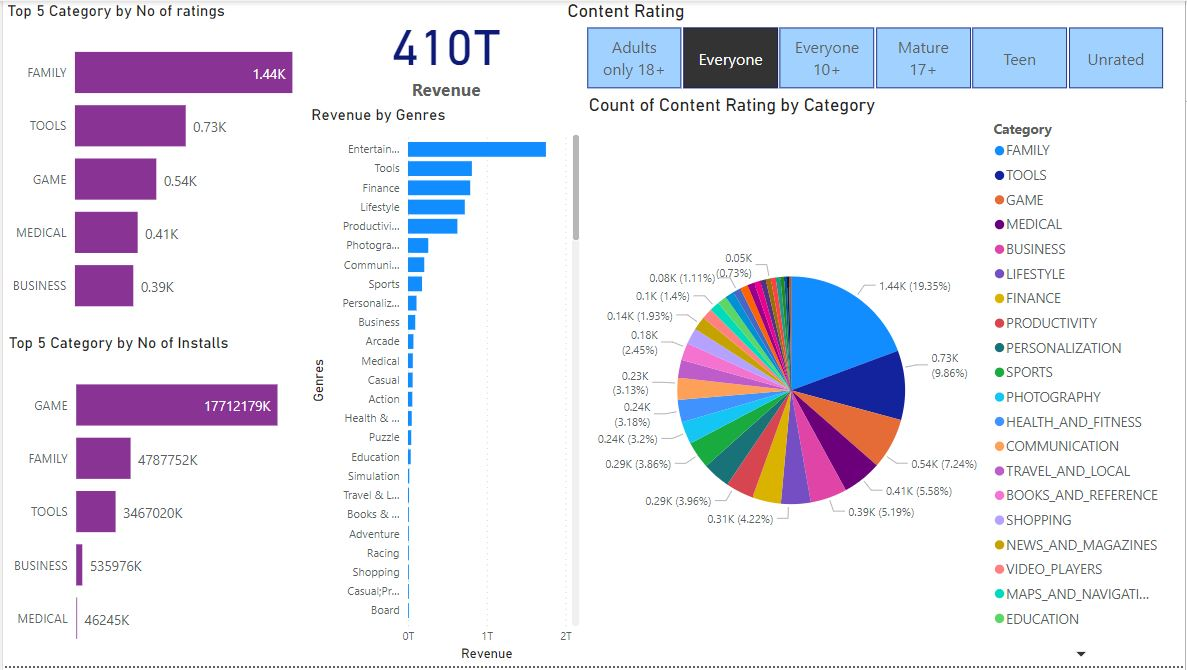

The dashboard page shown, as its layout file describes it:
{"tool":"powerbi","page":{"name":"Page 1","canvas":[1280,720],"ordinal":0},"visuals":[{"type":"actionButton","box":[0,0,100,40],"z":0},{"type":"barChart","title":"Top 5 Category by No of ratings","fields":{"Category":["cleaned-google-playstore.Category"],"Y":["CountNonNull(cleaned-google-playstore.Content Rating)"]},"box":[0,0,328.9,360],"z":3000},{"type":"card","fields":{"Values":["BaseMeasures.Revenue"]},"box":[330.2,0,299.1,112.3],"z":4001},{"type":"slicer","title":"Content Rating","fields":{"Values":["cleaned-google-playstore.Content Rating"]},"box":[606.3,0,674,101.5],"z":4002},{"type":"pieChart","fields":{"Y":["CountNonNull(cleaned-google-playstore.Content Rating)"],"Category":["cleaned-google-playstore.Category"]},"box":[629.3,101.5,636.1,618.5],"z":4003},{"type":"barChart","title":"Top 5 Category by No of Installs","fields":{"Category":["cleaned-google-playstore.Category"],"Y":["Sum(cleaned-google-playstore.Installs)"]},"box":[1.4,360,328.9,360],"z":4004},{"type":"barChart","fields":{"Category":["cleaned-google-playstore.Genres"],"Y":["BaseMeasures.Revenue"]},"box":[328.9,112.3,300.4,607.7],"z":4005}]}

Visuals, with their boxes in screenshot pixels (x1, y1, x2, y2), scaled from the page's 1280x720 canvas onto the 1187x670 screenshot:
actionButton: [x1=0, y1=0, x2=93, y2=37]
"Top 5 Category by No of ratings" barChart: [x1=0, y1=0, x2=305, y2=335]
card - BaseMeasures.Revenue: [x1=306, y1=0, x2=584, y2=105]
"Content Rating" slicer: [x1=562, y1=0, x2=1186, y2=94]
pieChart - CountNonNull(cleaned-google-playstore.Content Rating) x cleaned-google-playstore.Category: [x1=584, y1=94, x2=1173, y2=669]
"Top 5 Category by No of Installs" barChart: [x1=1, y1=335, x2=306, y2=669]
barChart - cleaned-google-playstore.Genres x BaseMeasures.Revenue: [x1=305, y1=105, x2=584, y2=669]
